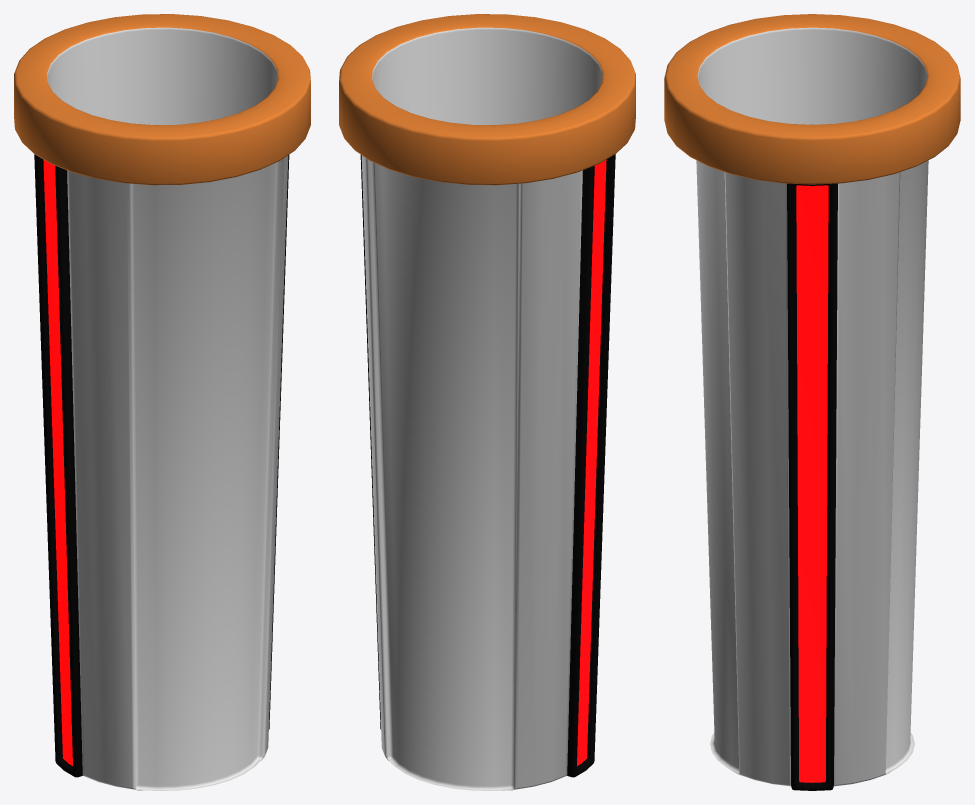
The model's file is Tubo 1.fbx.
3 renders of one model, left to right at view 1: azimuth 30°, elevation 25°; view 2: azimuth 150°, elevation 25°; view 3: azimuth 270°, elevation 25°, orthographic.
Visible parts, largest first — view 1: Tubo 1; view 2: Tubo 1; view 3: Tubo 1.
Boxes of the visible parts, box(x1,y1,x2,y2) form: Tubo 1: box(14, 14, 310, 790); Tubo 1: box(339, 14, 635, 790); Tubo 1: box(664, 14, 960, 790).
Size of the model in its own units: 562 by 1400 by 562.
